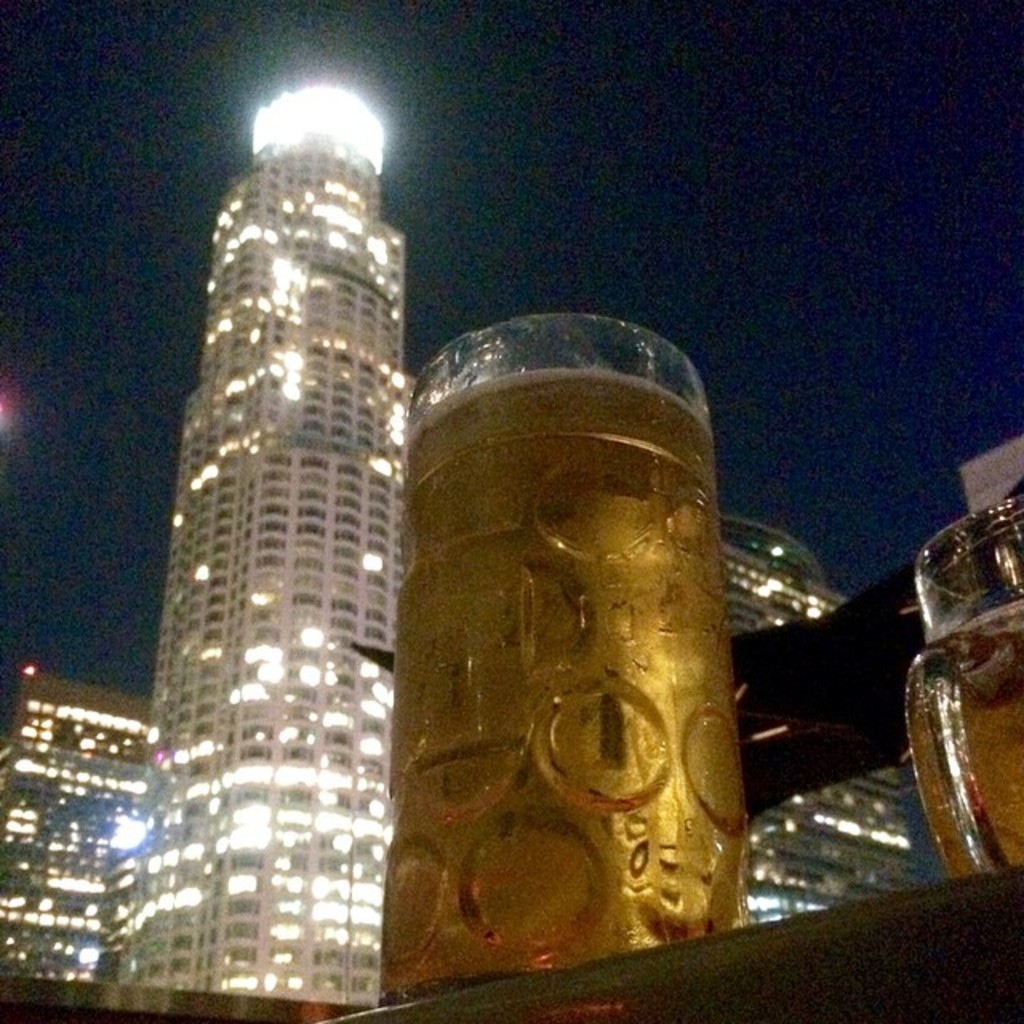Beer: (379, 364, 758, 1004), (907, 601, 1022, 880)
